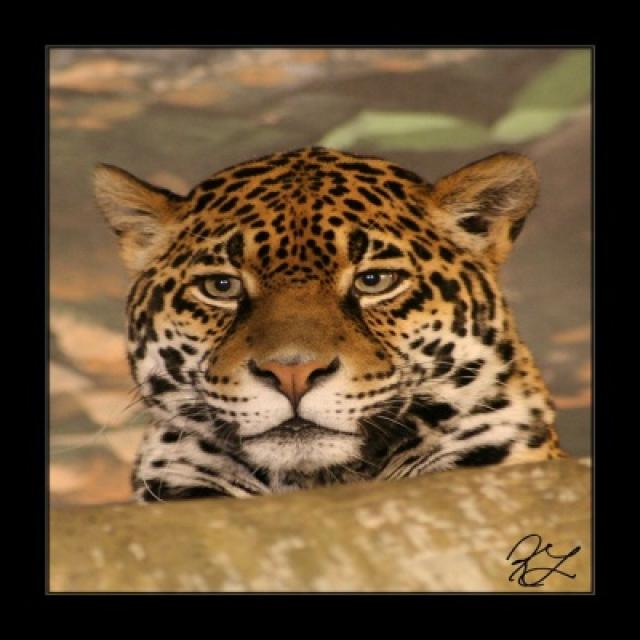Jaguar: (91, 146, 566, 507)
